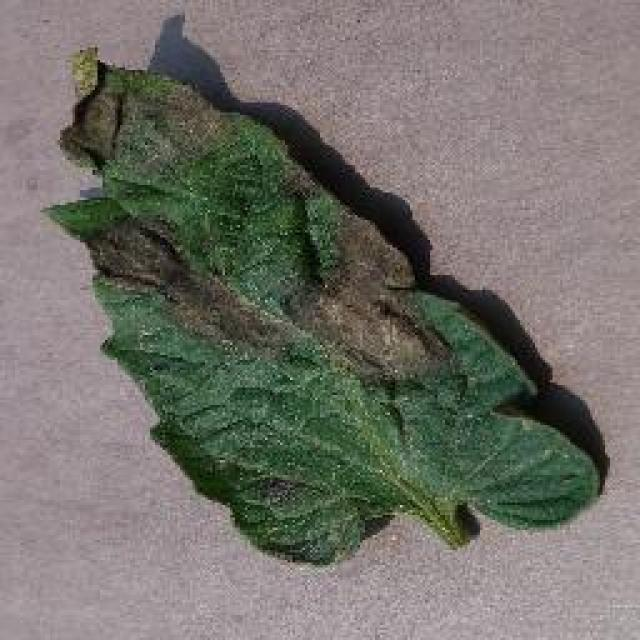Tomato Late Blight: (60, 135, 502, 360)
